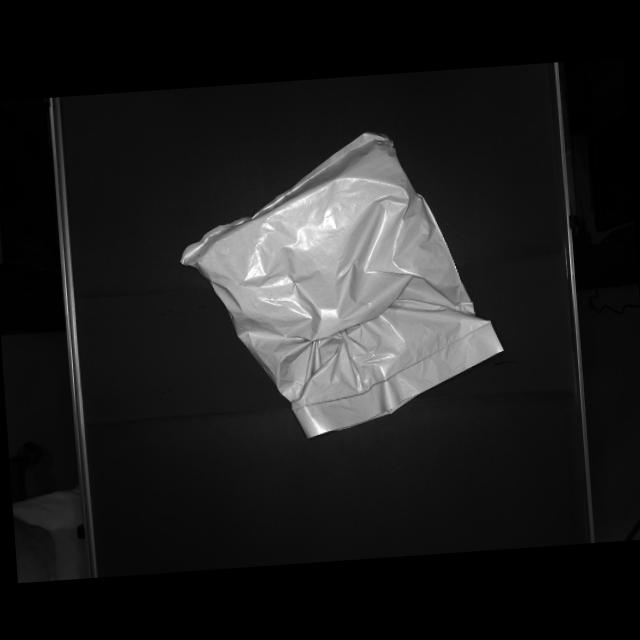mailer: (170, 124, 510, 454)
